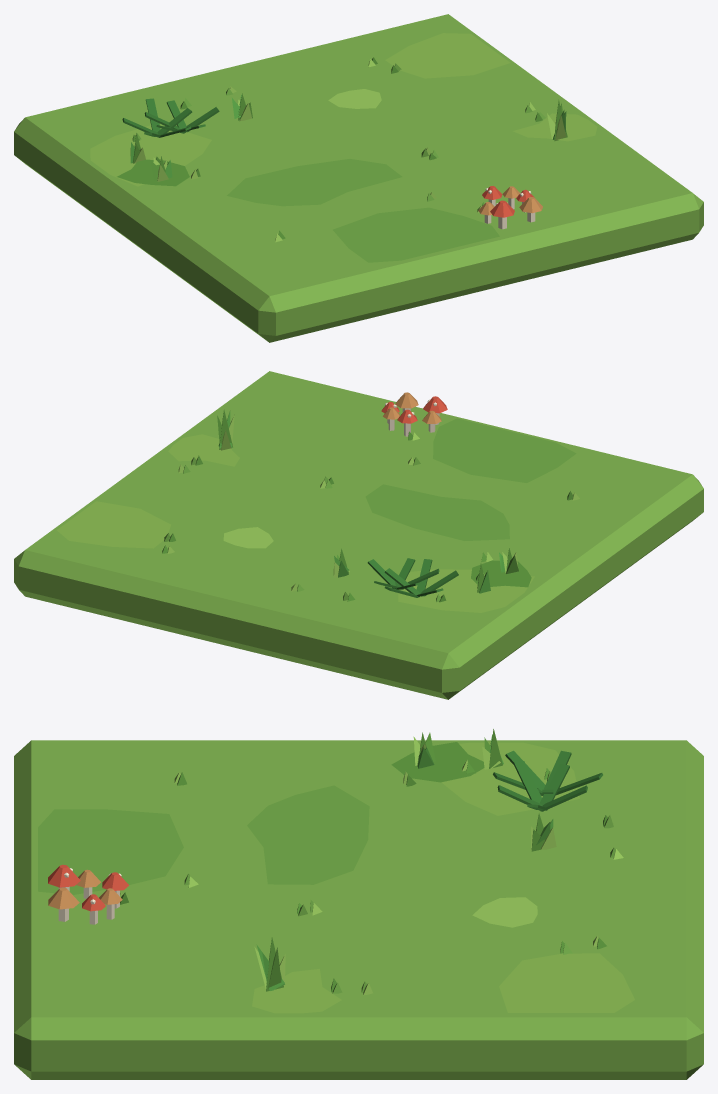
File: tile_grass_f.fbx
The picture shows the model from 3 angles, top to bottom: view 1: azimuth 30°, elevation 25°; view 2: azimuth 150°, elevation 25°; view 3: azimuth 270°, elevation 25°; orthographic projection. The views are drawn at different scales.
Visible parts, largest first — view 1: tile_grass_f, Details; view 2: tile_grass_f, Details; view 3: tile_grass_f, Details.
Boxes of the visible parts, x1,y1,x2,y2 form: tile_grass_f: [14, 14, 703, 342]; Details: [122, 57, 567, 242]; tile_grass_f: [14, 371, 703, 699]; Details: [162, 392, 579, 602]; tile_grass_f: [14, 740, 703, 1079]; Details: [48, 729, 623, 995].
Bounding box in the file's own units: 1 × 0.1833 × 1.
